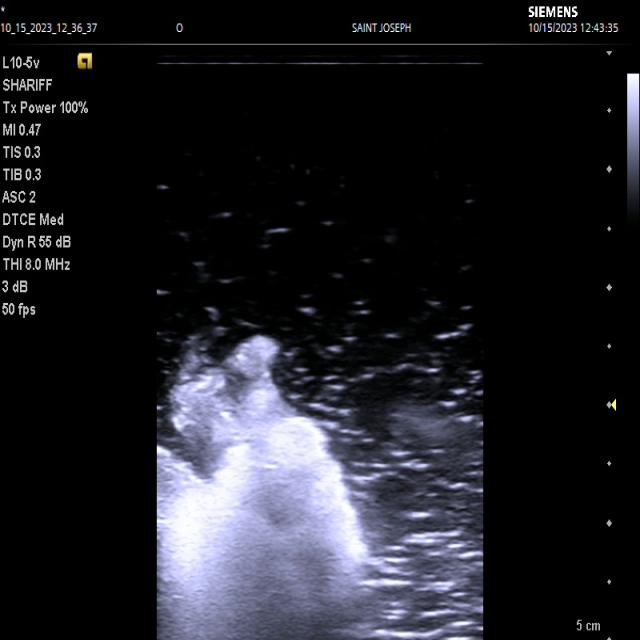tissue: (157, 337, 371, 640)
